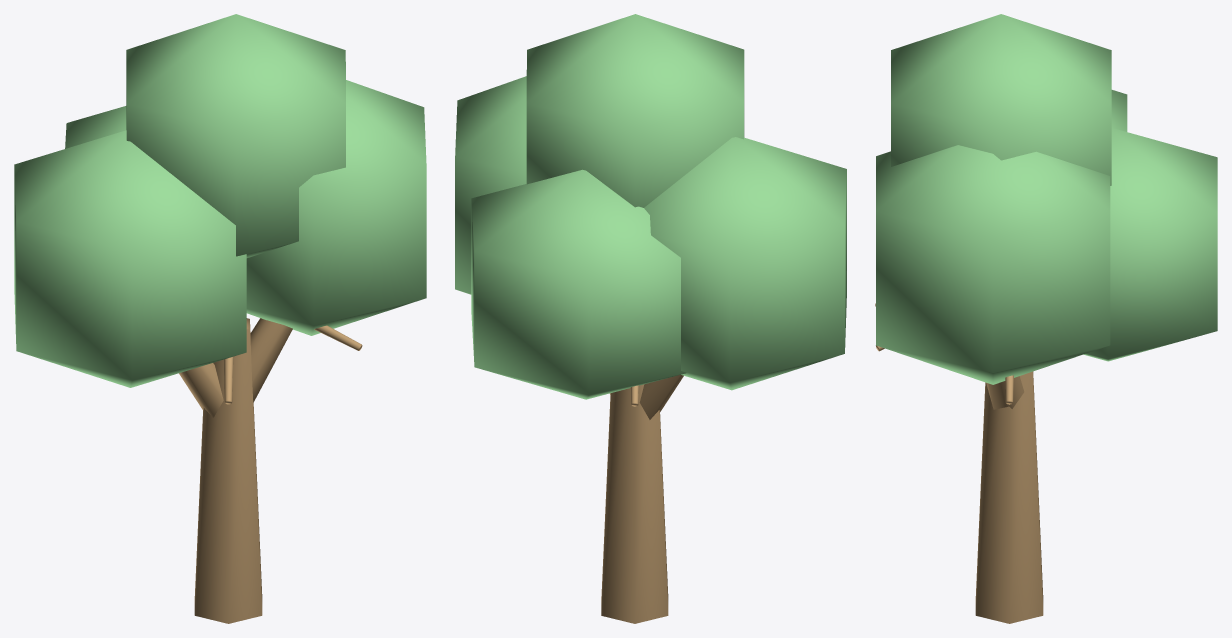
File: tree_harvest_summer_low.glb
3 renders of one model, left to right at view 1: azimuth 30°, elevation 25°; view 2: azimuth 150°, elevation 25°; view 3: azimuth 270°, elevation 25°, orthographic.
Bounding box in the file's own units: 2.24 × 3.19 × 1.67.
